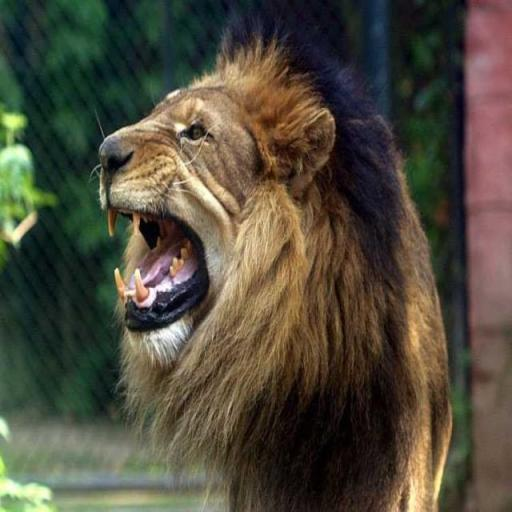Lion: (91, 14, 454, 512)
